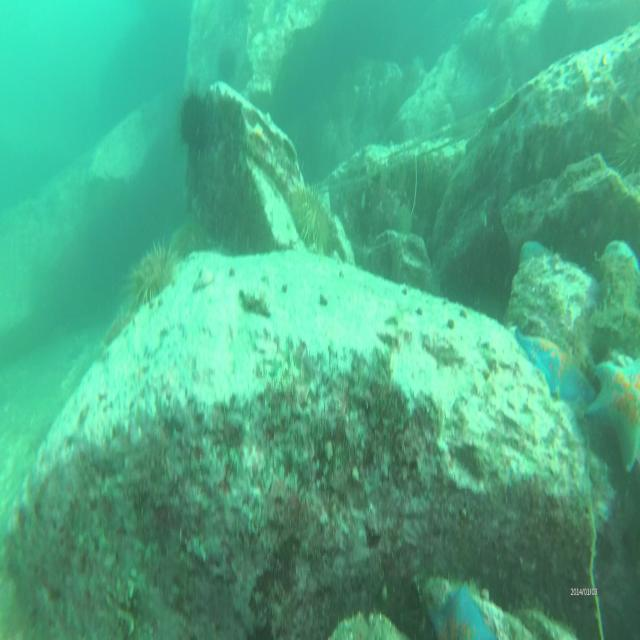echinus: (288, 181, 334, 250), (176, 80, 214, 153), (133, 238, 175, 304), (610, 94, 640, 179)
starfish: (515, 318, 596, 407), (590, 357, 640, 473), (419, 577, 511, 640), (602, 237, 640, 279)
